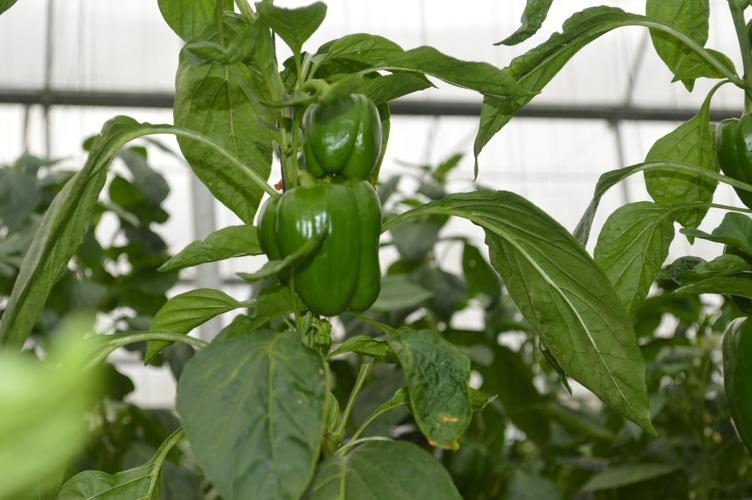BellPepper: (259, 179, 381, 313), (301, 93, 385, 183)
